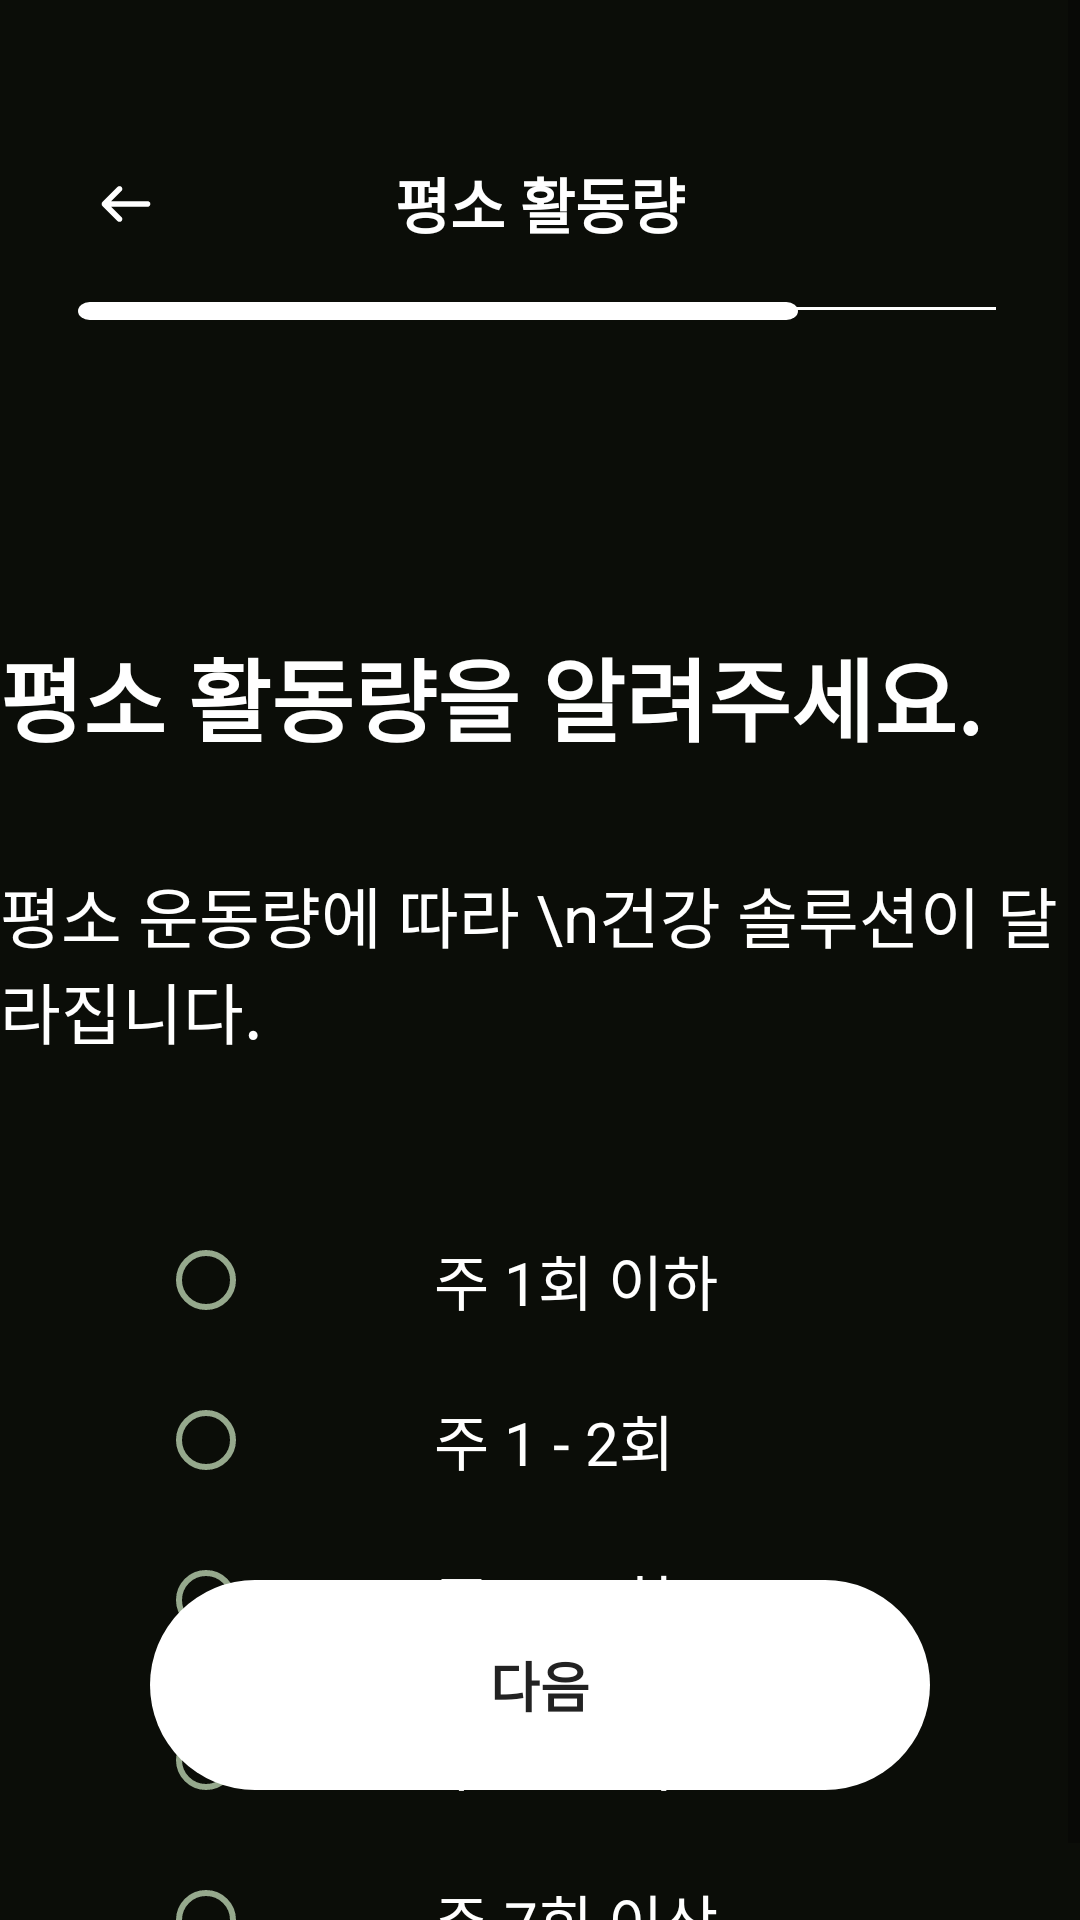

Named icons in this screenshot (1080 x 1920) and their bounding boxes, box(x1, y1, x2, y2):
backarrow: box(101, 186, 151, 222)
